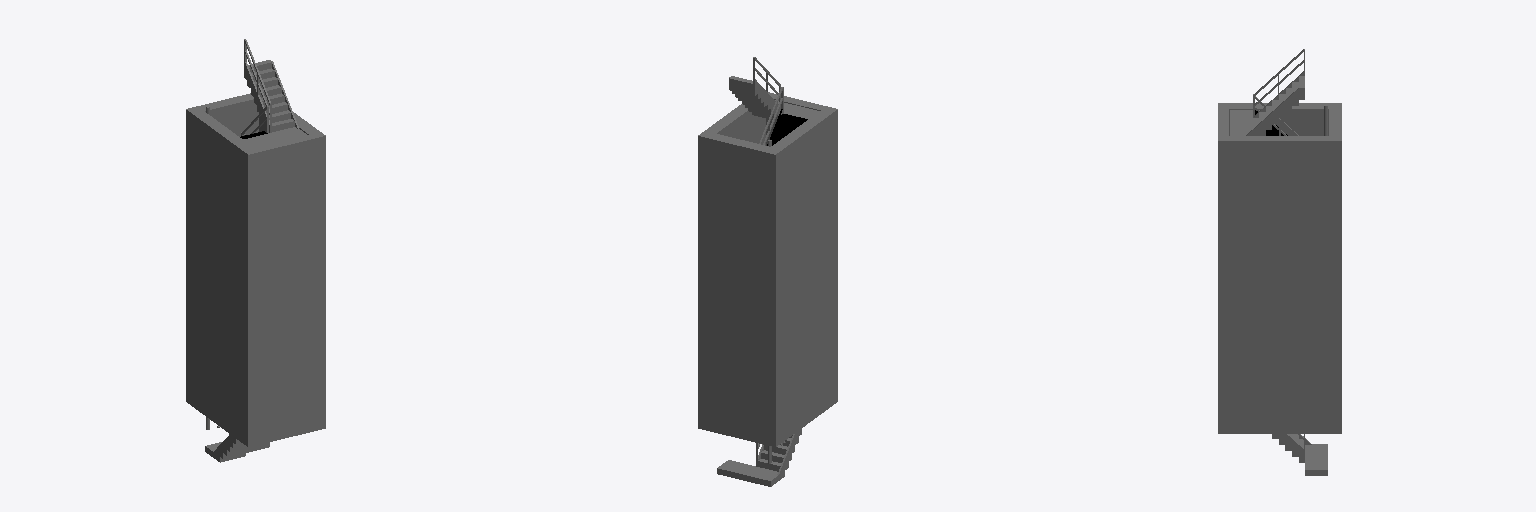
File: staircasewest.obj
The picture shows the model from 3 angles: view 1: azimuth 30°, elevation 25°; view 2: azimuth 150°, elevation 25°; view 3: azimuth 270°, elevation 25°; orthographic projection.
Visible parts, largest first — view 1: Stair_wall, pCube11, pCube10; view 2: Stair_wall, pCube10, pCube11, polySurface1 pCube19; view 3: Stair_wall, pCube11, pCube10.
Part boxes in pixels (bbox=[...]): Stair_wall: bbox=[186, 93, 325, 446]; pCube11: bbox=[243, 39, 306, 147]; pCube10: bbox=[205, 434, 269, 462]; Stair_wall: bbox=[698, 92, 837, 446]; pCube10: bbox=[717, 426, 804, 486]; pCube11: bbox=[729, 57, 818, 120]; polySurface1 pCube19: bbox=[767, 109, 807, 145]; Stair_wall: bbox=[1218, 103, 1341, 433]; pCube11: bbox=[1230, 49, 1304, 135]; pCube10: bbox=[1272, 434, 1327, 475].
Size of the model in its own units: 341 by 1734 by 474.